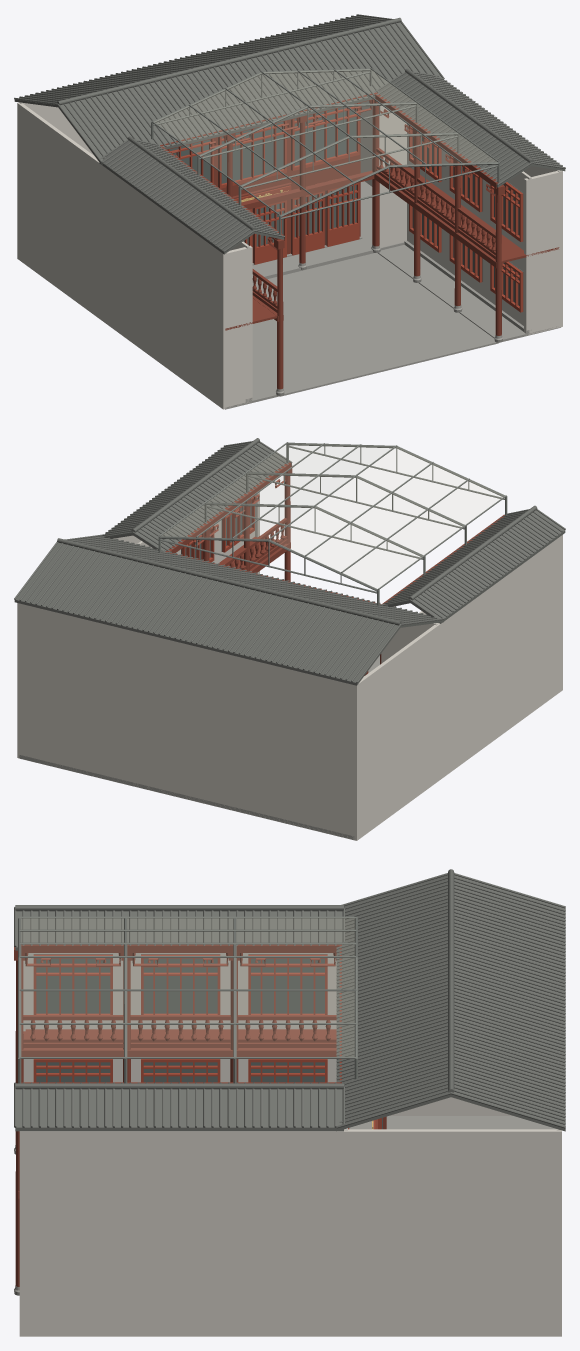
The model's file is huangpu-cixiu-nunnery-courtyard-raw.glb.
3 views of the same model, one above another, from view 1: azimuth 30°, elevation 25°; view 2: azimuth 150°, elevation 25°; view 3: azimuth 270°, elevation 25° (orthographic). The views are drawn at different scales.
Parts seen in each view (by area): view 1: 慈修庵正院北殿与两厢木廊; view 2: 慈修庵正院北殿与两厢木廊; view 3: 慈修庵正院北殿与两厢木廊.
Boxes of the visible parts, <box> form: 慈修庵正院北殿与两厢木廊: <box>14,14,565,409</box>; 慈修庵正院北殿与两厢木廊: <box>14,438,565,840</box>; 慈修庵正院北殿与两厢木廊: <box>14,869,565,1336</box>.
Size of the model in its own units: 14.31 by 8.18 by 15.12.
